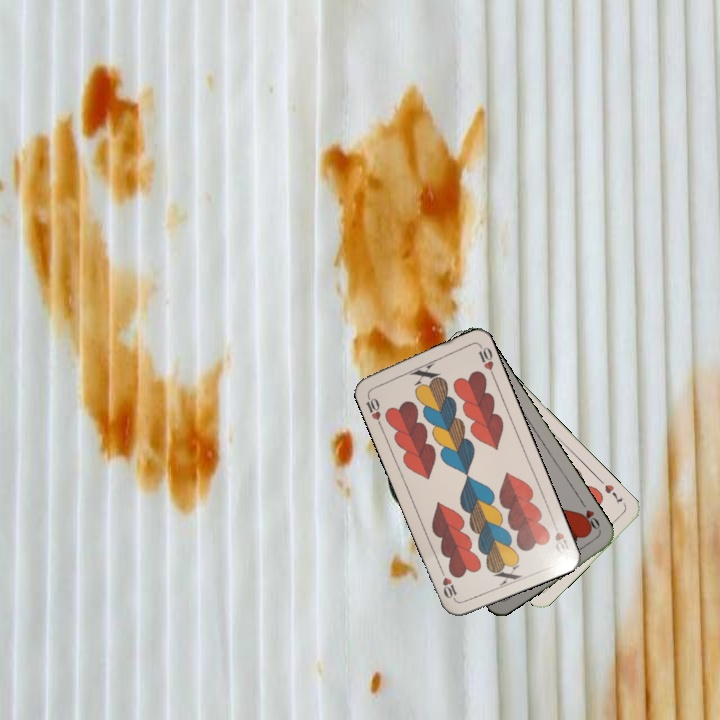H10: (549, 517, 573, 557), (362, 389, 384, 429)
H7: (600, 480, 626, 507)
HO: (575, 498, 603, 534)
